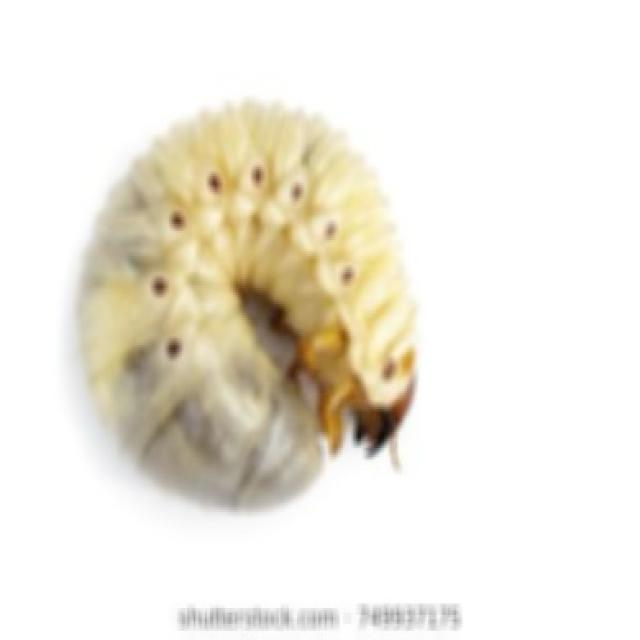grub: (74, 101, 414, 510)
